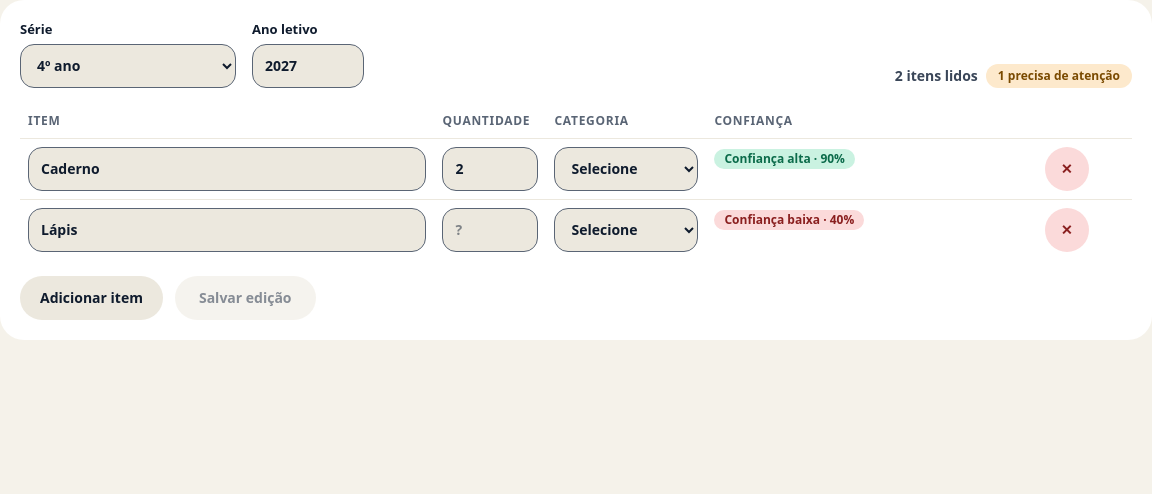
Scenario: rascunho, validação e avisos do editor › item adicionado nasce sem quantidade ('?'); fracionária ou 0 bloqueia salvar com aviso na linha
Click the button "Adicionar item" at (92,298), box x1=20 y1=276 x2=163 y2=320
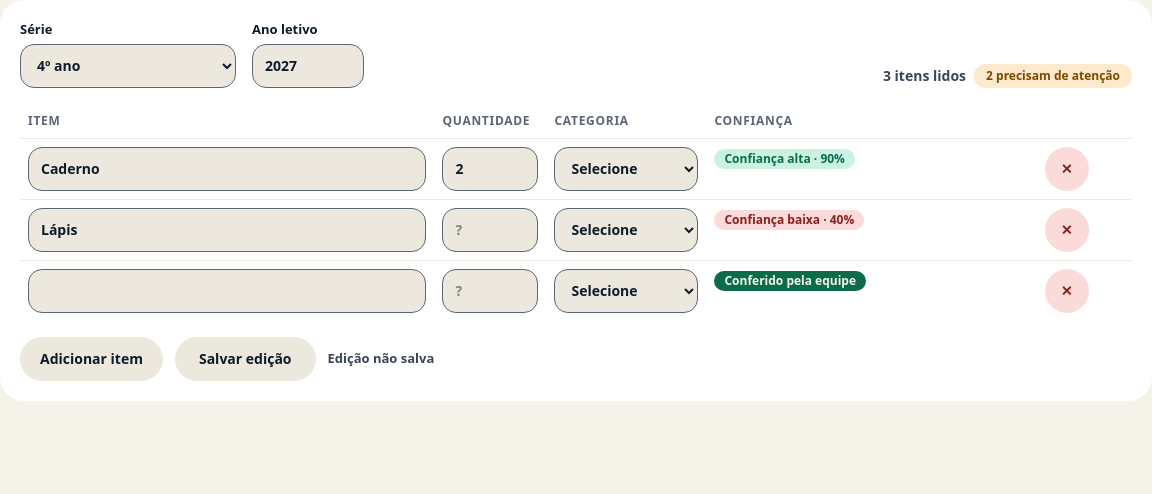
expect the number field named "Quantidade do item 3" is not empty: met, box x1=442 y1=268 x2=538 y2=312
Replace the text in the number field named "Quantidade do item 1" with "1.5" at (490,168), box x1=442 y1=146 x2=538 y2=190
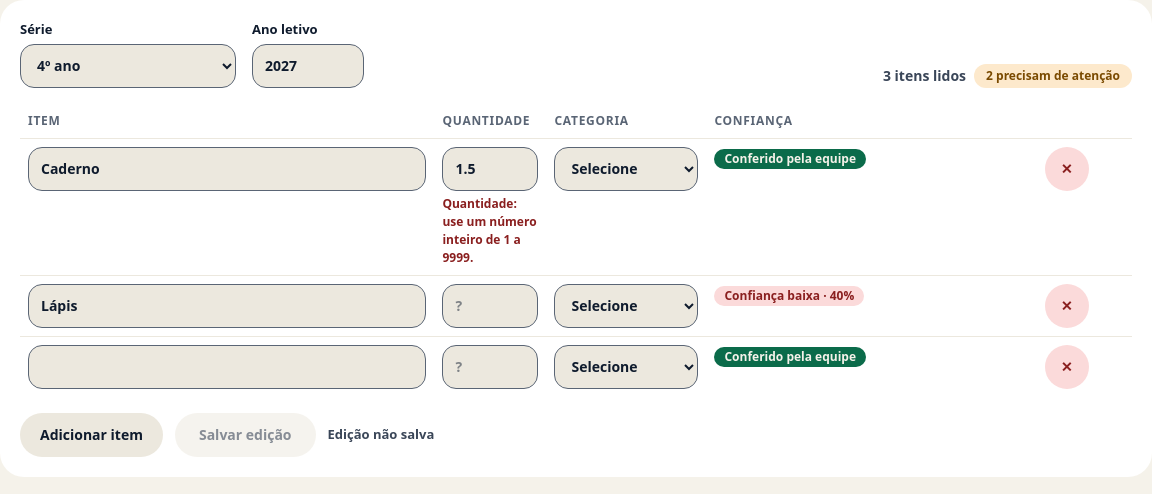
expect the message shows "número inteiro de 1 a 9999": met, box x1=442 y1=194 x2=536 y2=266
expect the button "Salvar edição" is disabled: met, box x1=175 y1=412 x2=316 y2=456
Replace the text in the number field named "Quantidade do item 1" with "0" at (490,168), box x1=442 y1=146 x2=538 y2=190
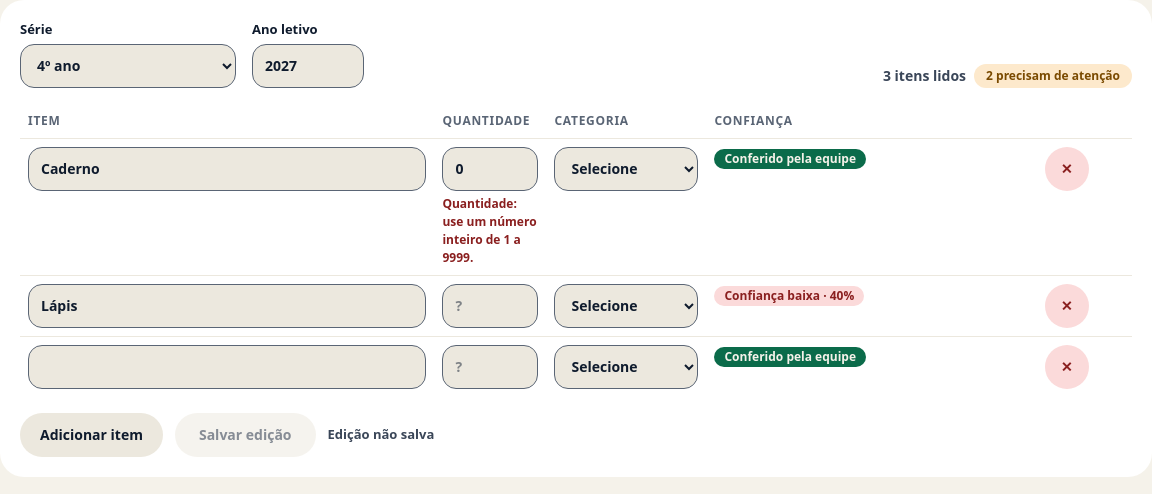
expect the button "Salvar edição" is disabled: met, box x1=175 y1=412 x2=316 y2=456
Replace the text in the number field named "Quantidade do item 1" with "3" at (490,168), box x1=442 y1=146 x2=538 y2=190
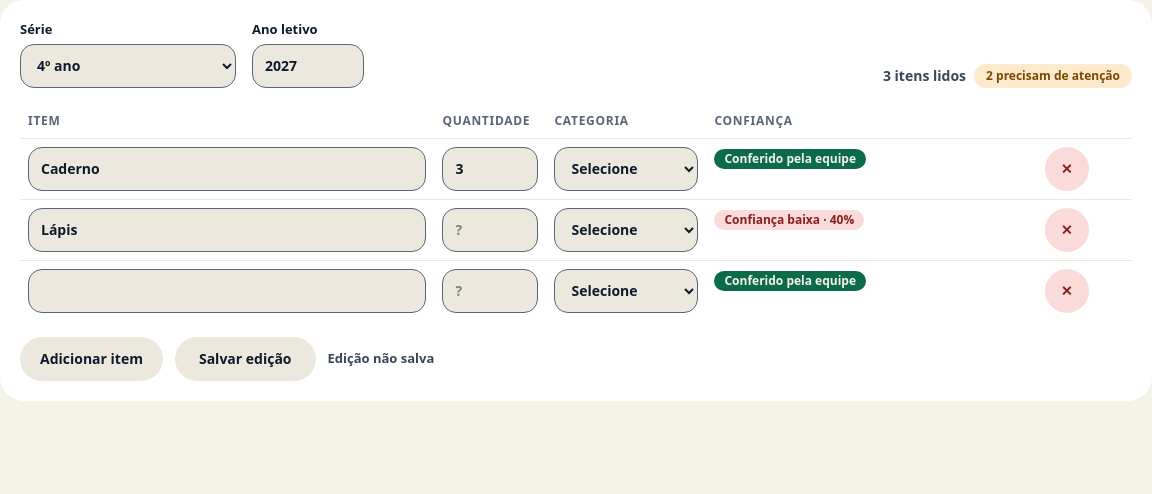
expect the button "Salvar edição" is enabled: met, box x1=175 y1=336 x2=316 y2=380
